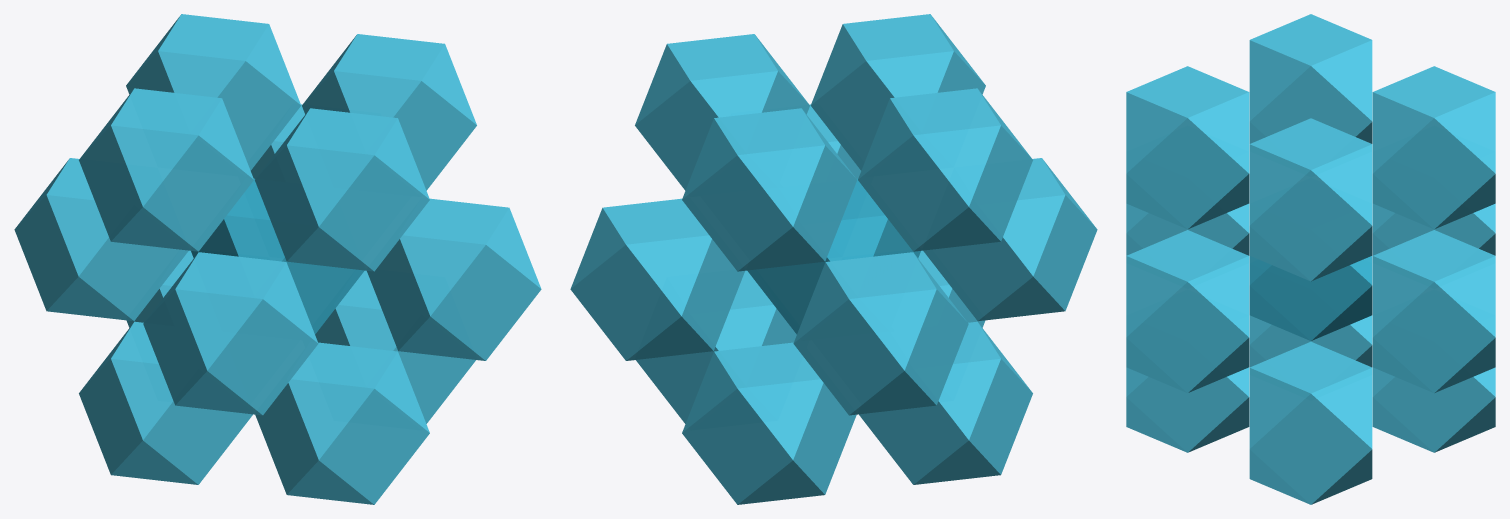
Rendered from fractalcuboctahedron1.glb.
The picture shows the model from 3 angles, left to right: view 1: azimuth 30°, elevation 25°; view 2: azimuth 150°, elevation 25°; view 3: azimuth 270°, elevation 25°; orthographic projection. The views are drawn at different scales.
Size of the model in its own units: 8.76 by 8.76 by 8.76.
